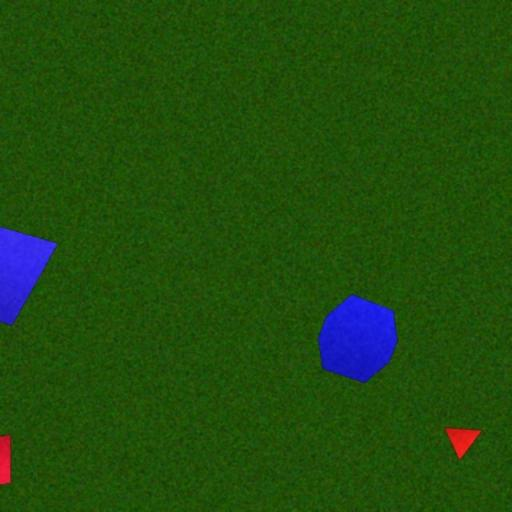BLUE_SQUARE: (0, 218, 59, 326)
